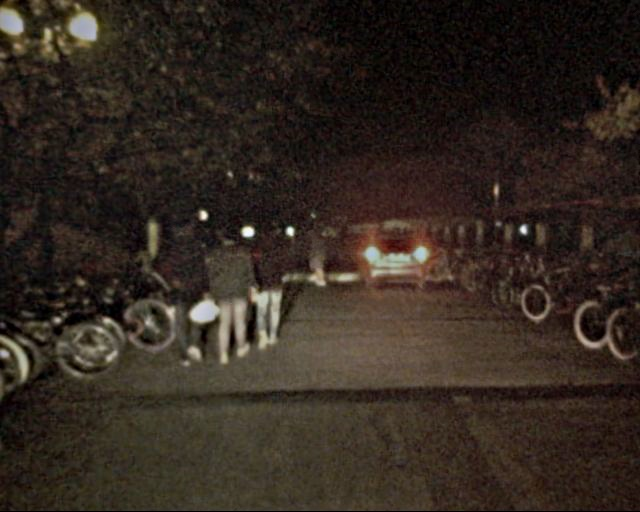person: (155, 219, 212, 359), (200, 225, 257, 364), (237, 226, 290, 356), (303, 225, 331, 288)
